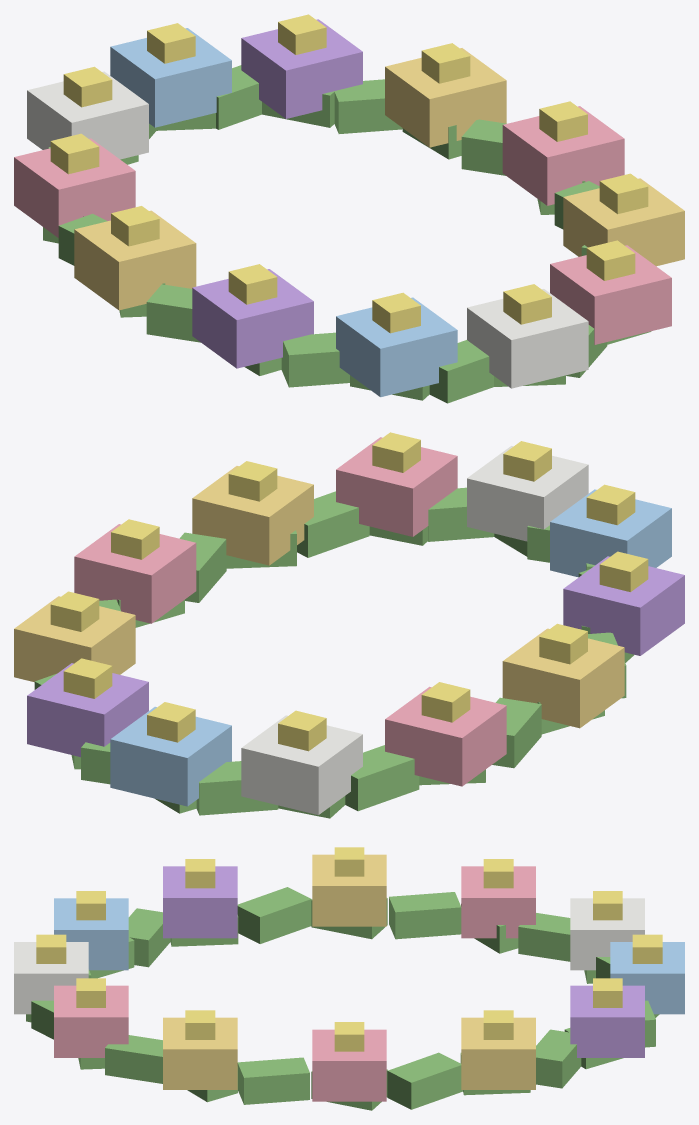
The model's file is coroa_flores.glb.
3 renders of one model, top to bottom at view 1: azimuth 30°, elevation 25°; view 2: azimuth 150°, elevation 25°; view 3: azimuth 270°, elevation 25°, orthographic. The views are drawn at different scales.
Visible parts, largest first — view 1: coroa_flores; view 2: coroa_flores; view 3: coroa_flores.
Part boxes in pixels (x1=…): coroa_flores: x1=14, y1=14, x2=684, y2=403; coroa_flores: x1=14, y1=432, x2=684, y2=818; coroa_flores: x1=14, y1=847, x2=684, y2=1110.
Size of the model in its own units: 0.6549 by 0.105 by 0.8997.
